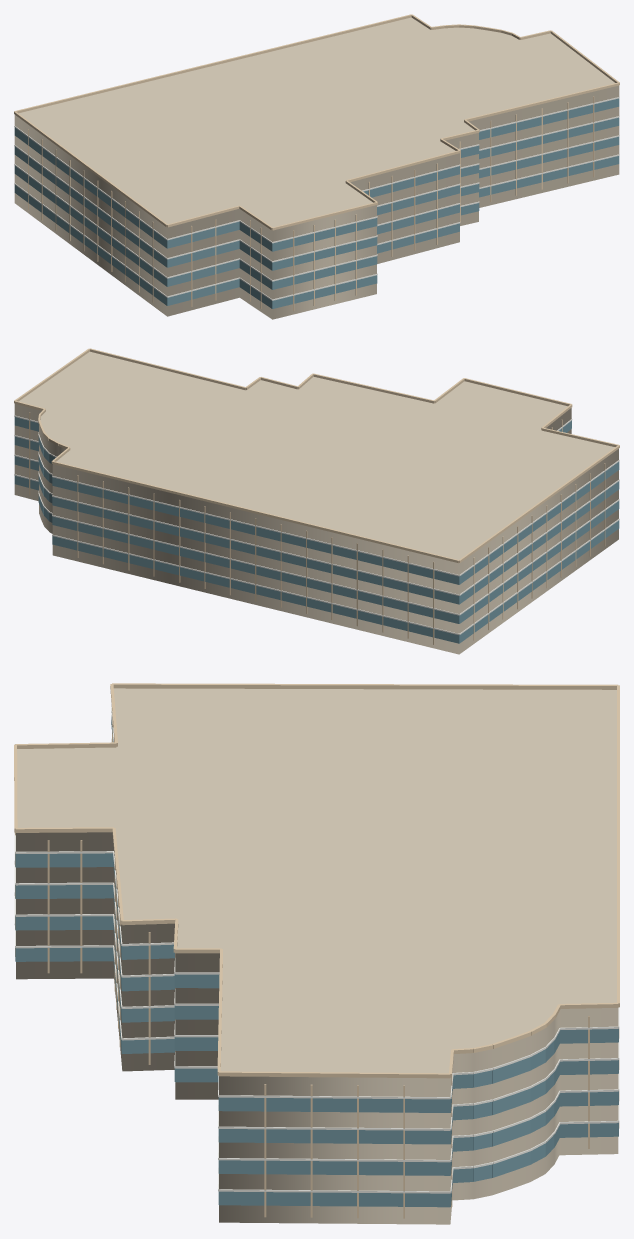
Rendered from shopprix-meerut.glb.
3 renders of one model, top to bottom at view 1: azimuth 30°, elevation 25°; view 2: azimuth 150°, elevation 25°; view 3: azimuth 270°, elevation 25°, orthographic. The views are drawn at different scales.
Parts seen in each view (by area): view 1: NCR_shopprix-meerut; view 2: NCR_shopprix-meerut; view 3: NCR_shopprix-meerut.
Part boxes in pixels (<box>): NCR_shopprix-meerut: <box>14,14,619,319</box>; NCR_shopprix-meerut: <box>14,348,619,654</box>; NCR_shopprix-meerut: <box>14,683,619,1224</box>.
Size of the model in its own units: 134 by 24 by 87.48.
